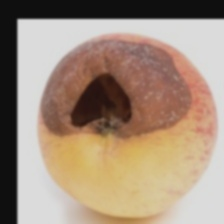apple: (30, 6, 201, 195)
